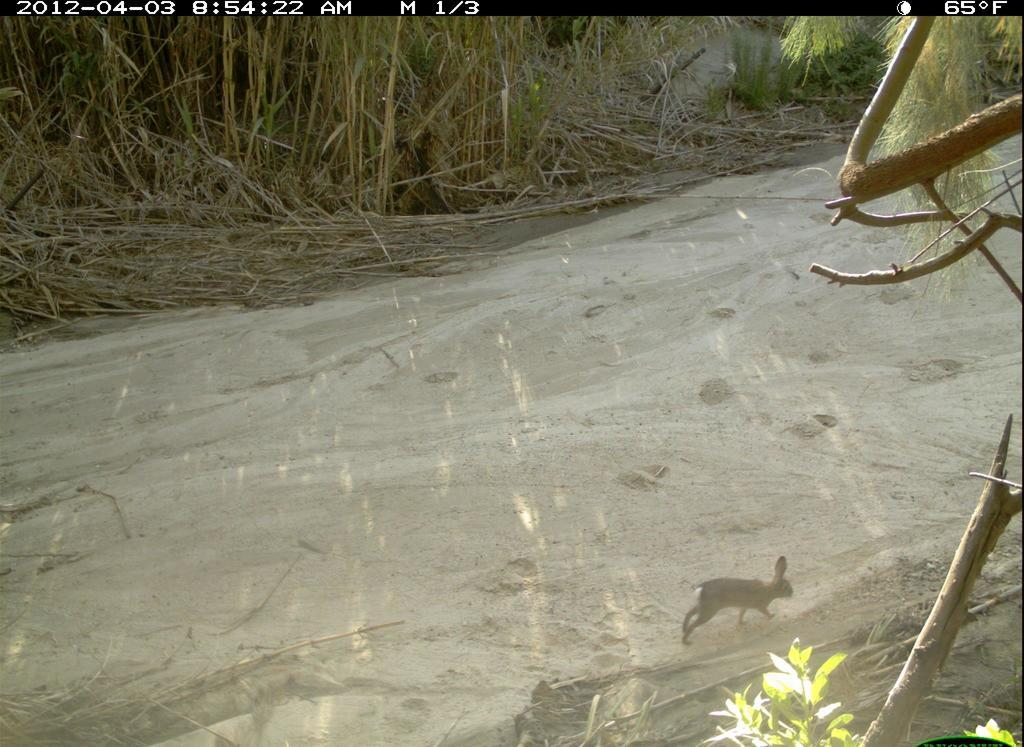rabbit: (673, 550, 799, 655)
